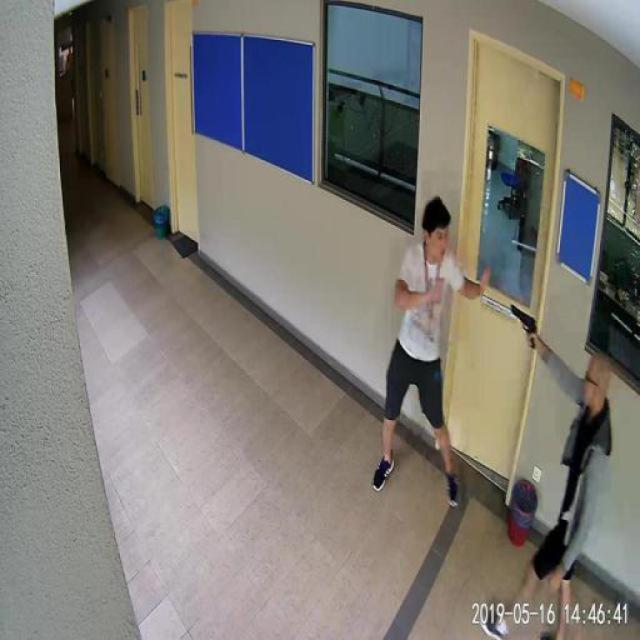pistol: (509, 302, 535, 348)
